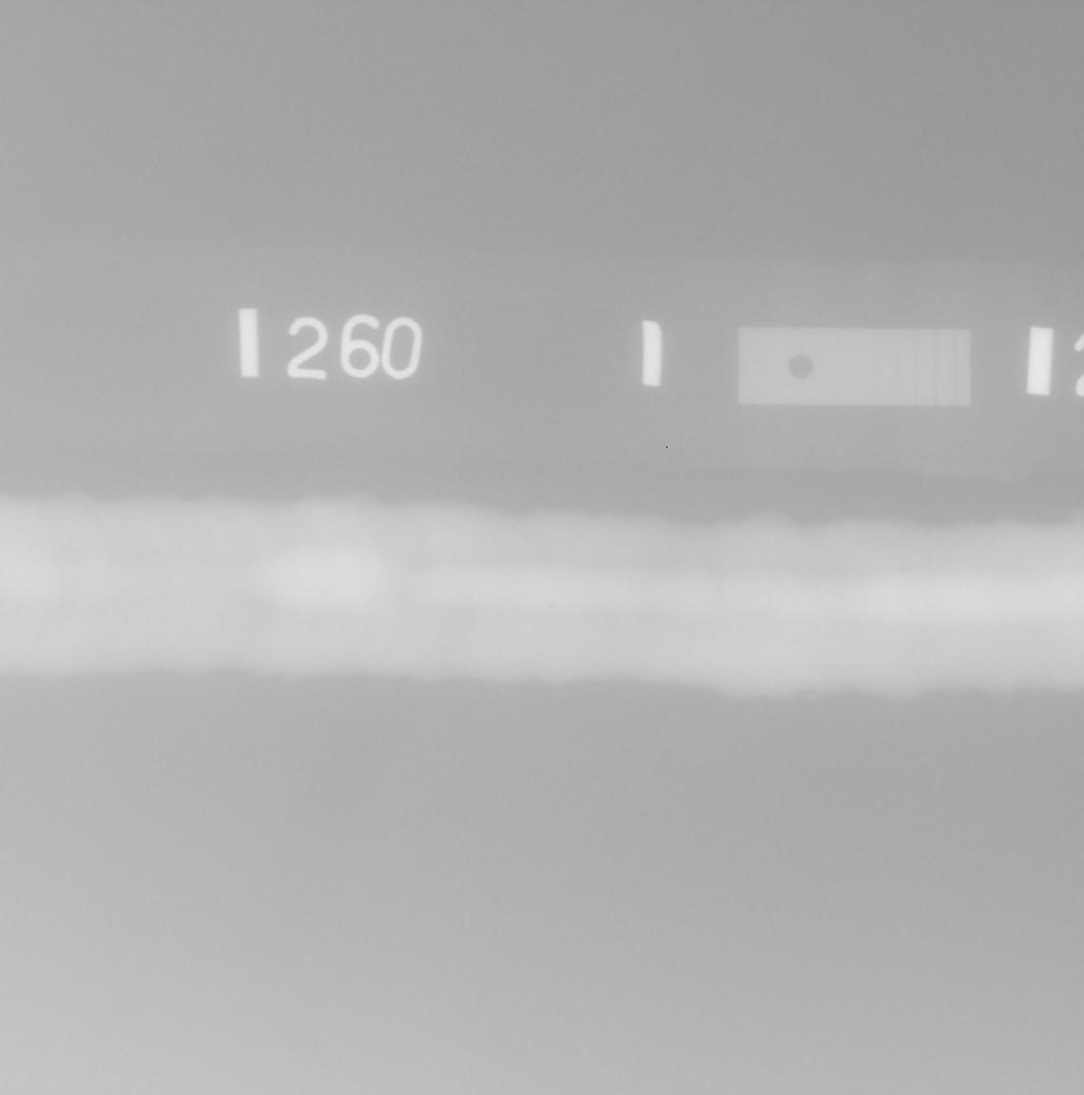Pore/Porosity: (864, 596, 869, 601), (548, 604, 554, 608)
Reference Standard 1: (738, 327, 972, 406)
